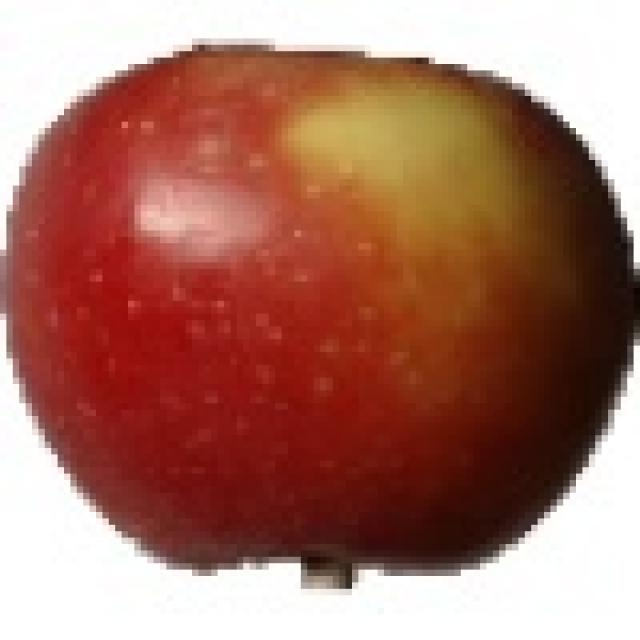apple: (5, 39, 638, 592)
